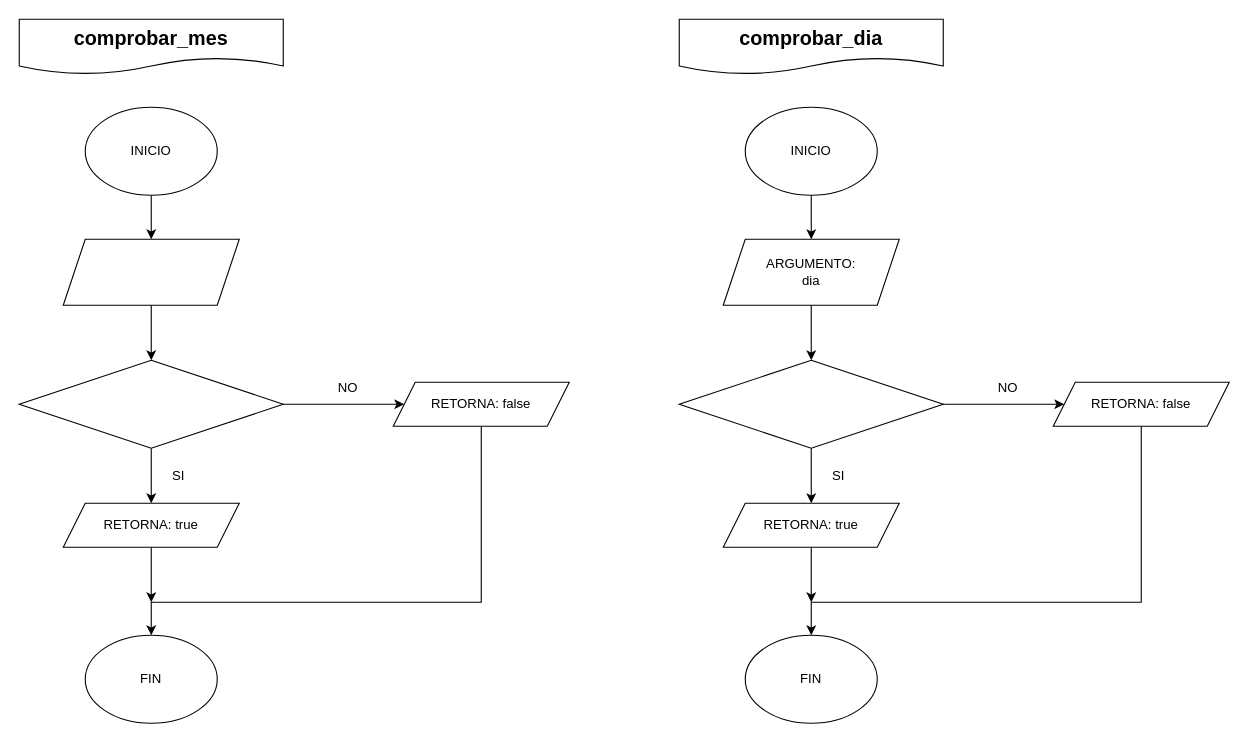
The diagram is 1249 pixels wide and 743 high, and some of its shapes have lost their labels. Here are the shapes that lost their labels. From the top down, the box of each, then its label:
(62, 238, 239, 305): ARGUMENTO: mes
(18, 359, 283, 448): ¿mes esta entre 1 y 12?
(678, 359, 943, 448): ¿dia esta entre 1 y 31?
